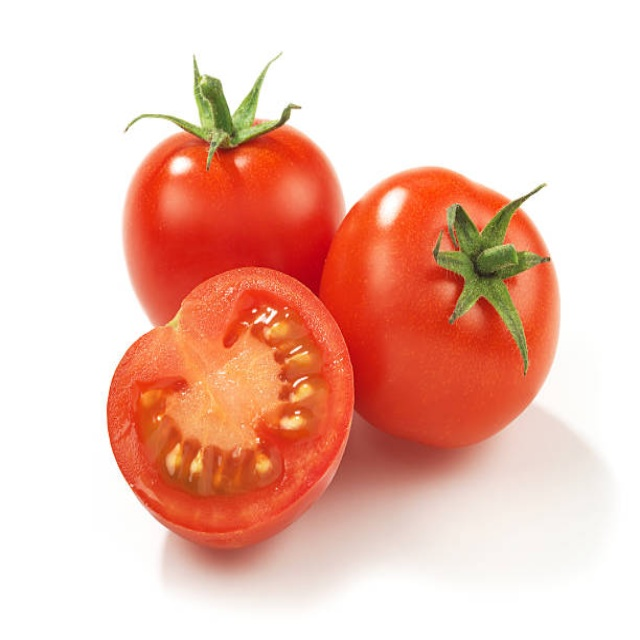tomato: (317, 170, 560, 450), (109, 271, 347, 546), (127, 123, 340, 334)
